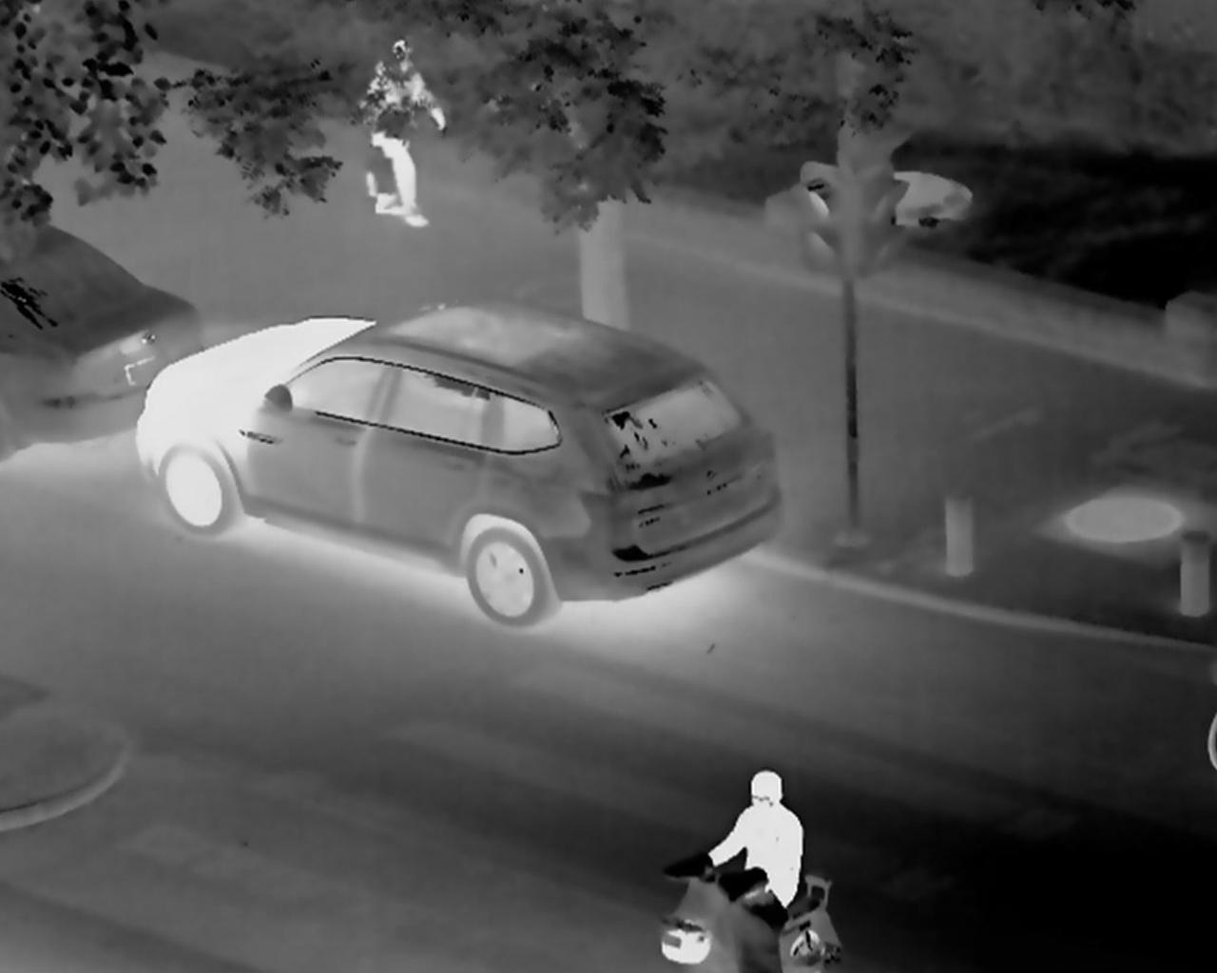person: (714, 763, 832, 939), (357, 41, 448, 229)
